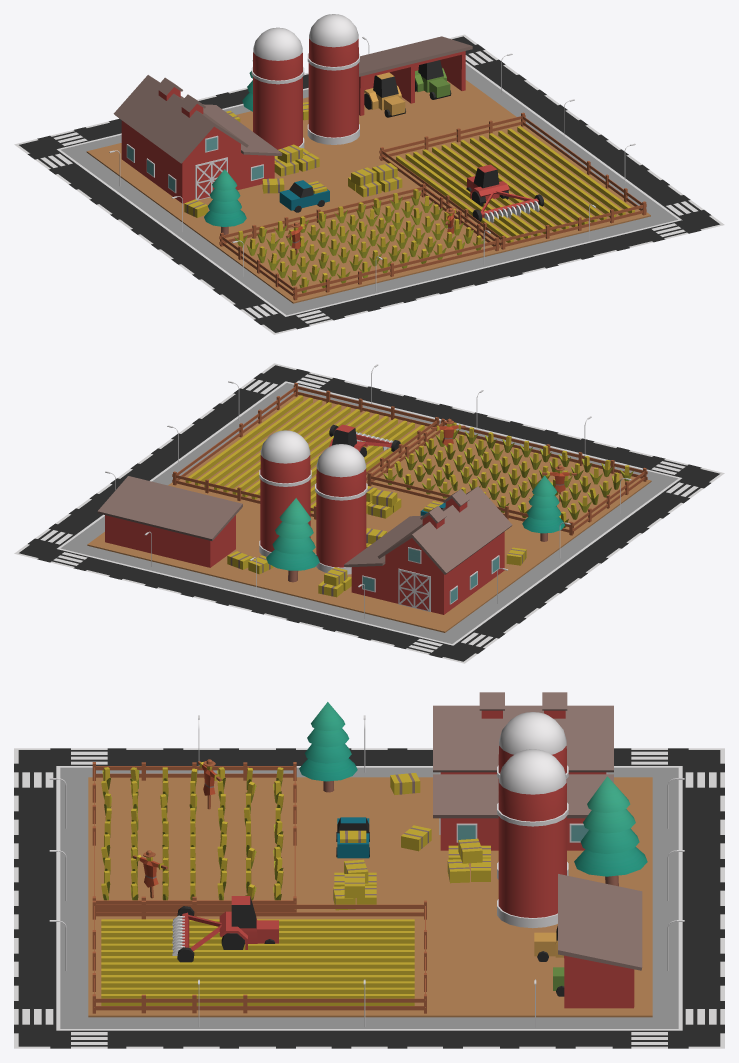
Rendered from FarmArea_Upgrade.fbx.
The picture shows the model from 3 angles, top to bottom: view 1: azimuth 30°, elevation 25°; view 2: azimuth 150°, elevation 25°; view 3: azimuth 270°, elevation 25°; orthographic projection. The views are drawn at different scales.
Visible parts, largest first — view 1: FarmArea_Upgrade; view 2: FarmArea_Upgrade; view 3: FarmArea_Upgrade.
Part boxes in pixels (x1,y1,x2,y2): FarmArea_Upgrade: [14, 14, 724, 334]; FarmArea_Upgrade: [14, 363, 724, 663]; FarmArea_Upgrade: [14, 692, 724, 1048].
Bounding box in the file's own units: 1000 × 259 × 1000.
1 material, 1 textured.
